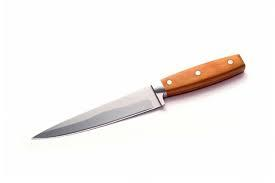Knife: (31, 53, 245, 139)
